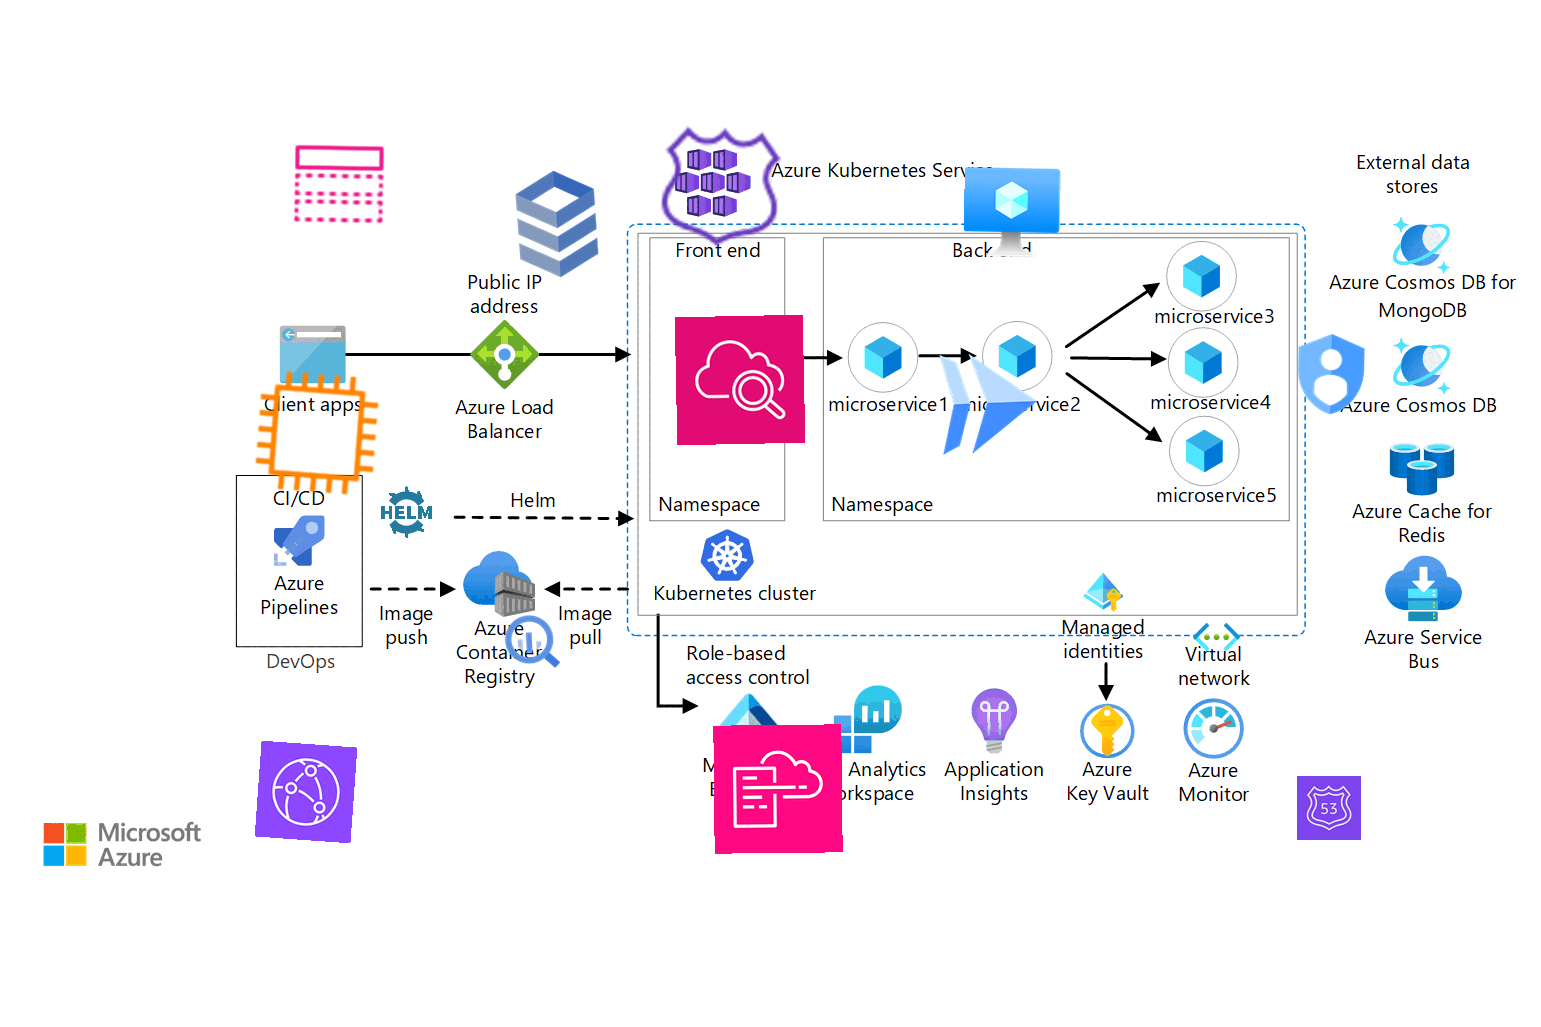aws_amazon_cloudfront: (254, 740, 357, 844)
aws_amazon_cloudwatch: (674, 314, 805, 446)
aws_amazon_route_53: (1296, 775, 1362, 841)
aws_cloudformation: (713, 724, 843, 854)
aws_ec2_instance: (247, 364, 386, 502)
aws_route_53_hosted_zone: (653, 118, 791, 256)
aws_simple_notification_service_topic: (290, 135, 388, 233)
azure_virtual_machine: (964, 166, 1061, 264)
gcp_bigquery: (498, 607, 566, 676)
gcp_cloud_run: (920, 336, 1054, 470)
gcp_cloud_sql: (488, 155, 626, 293)
gcp_identity_and_access_management: (1281, 324, 1381, 424)
